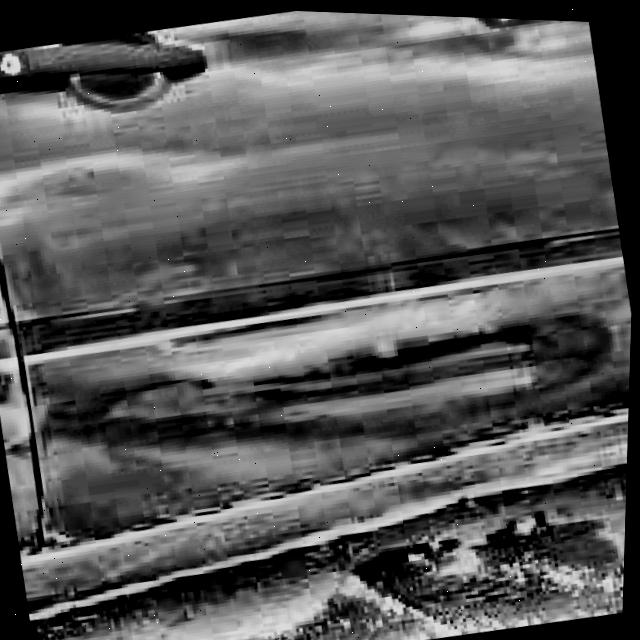door_dent: (33, 213, 634, 518)
